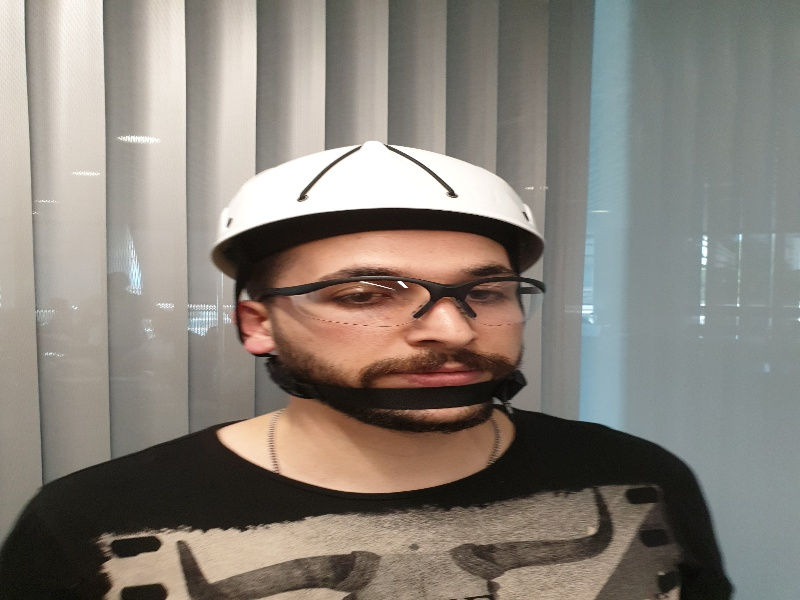Baret: (218, 144, 552, 252)
Gozluk: (248, 275, 550, 327)
